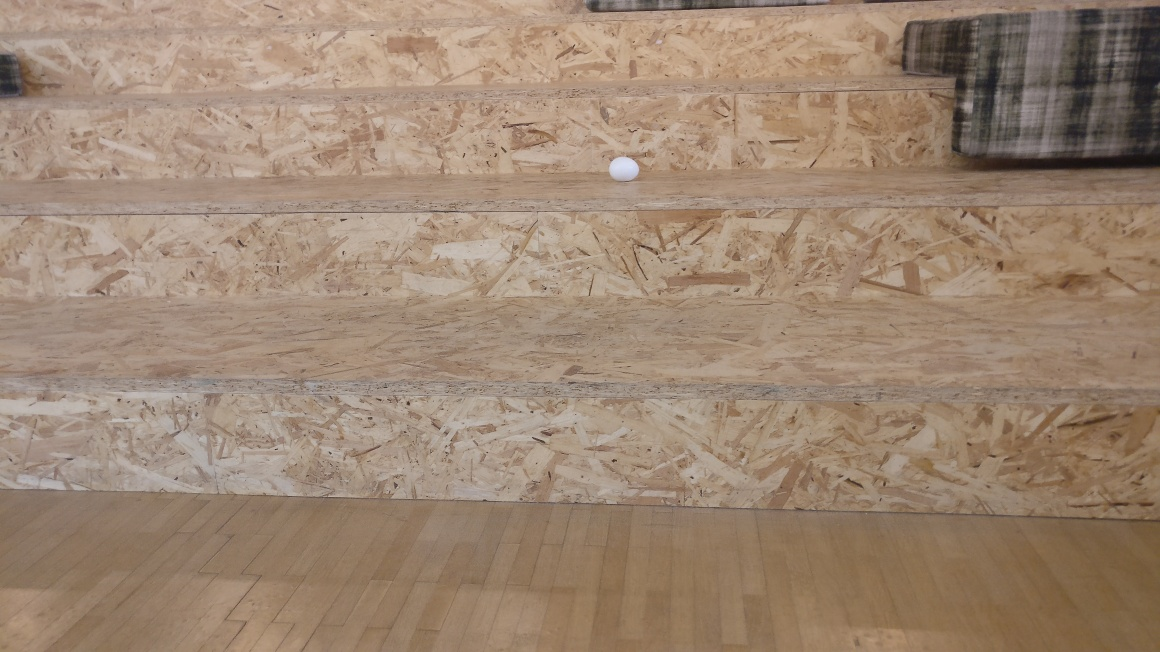egg: (608, 156, 639, 182)
